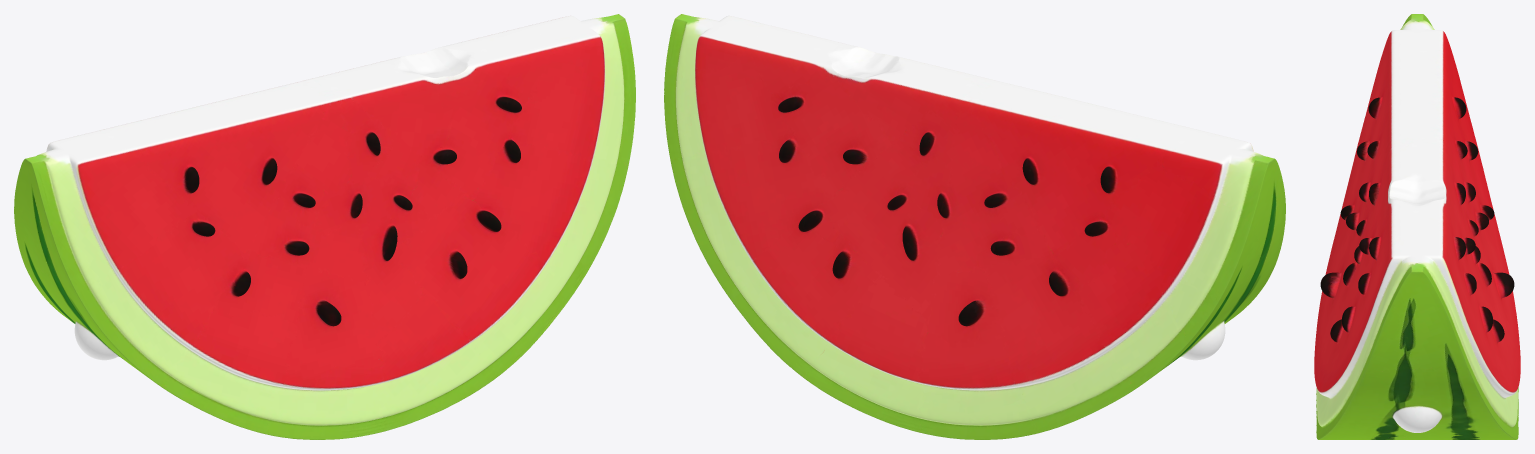
The model's file is Fetta cocomero.glb.
3 views of the same model, side by side, from view 1: azimuth 30°, elevation 25°; view 2: azimuth 150°, elevation 25°; view 3: azimuth 270°, elevation 25° (orthographic). The views are drawn at different scales.
Bounding box in the file's own units: 1.9 × 0.9256 × 0.6418.
1 material, 1 textured.
